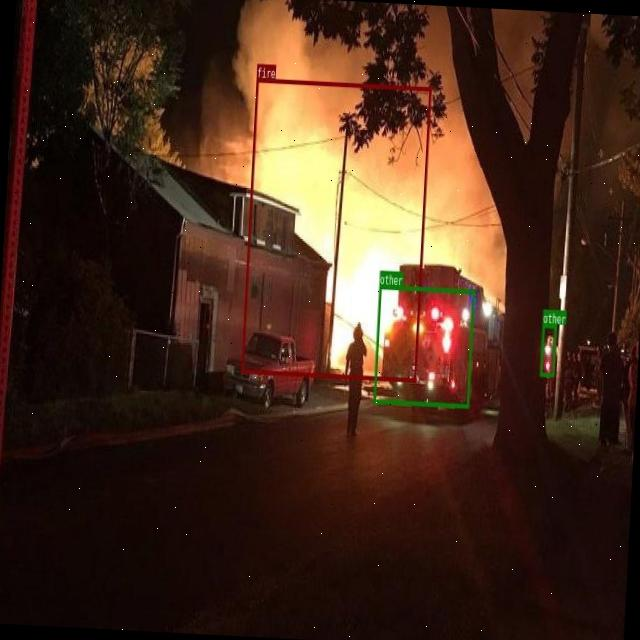fire: (242, 77, 432, 381)
